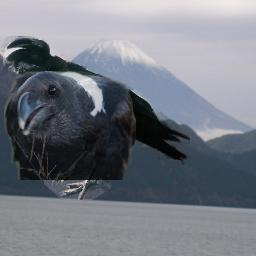Crow: (1, 36, 190, 200), (4, 70, 136, 180)
